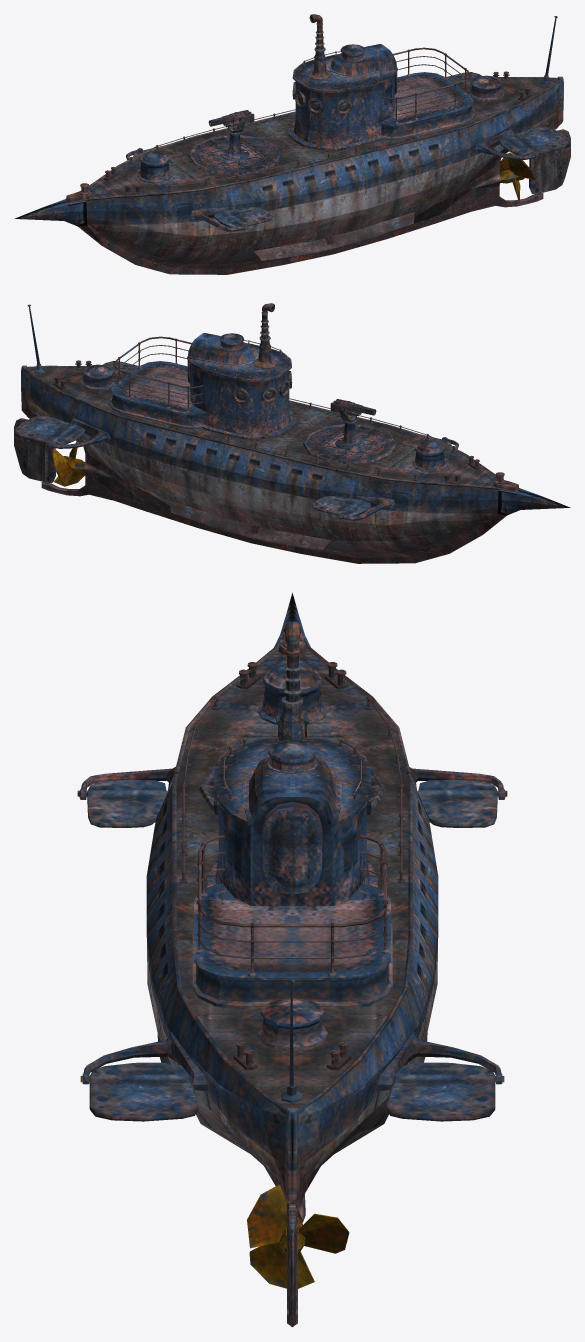
Rendered from submarina.obj.
3 renders of one model, top to bottom at view 1: azimuth 30°, elevation 25°; view 2: azimuth 150°, elevation 25°; view 3: azimuth 270°, elevation 25°, orthographic. The views are drawn at different scales.
Visible parts, largest first — view 1: Cylinder09; view 2: Cylinder09; view 3: Cylinder09.
Boxes of the visible parts, bbox=[...] form: Cylinder09: bbox=[14, 14, 570, 274]; Cylinder09: bbox=[14, 303, 570, 563]; Cylinder09: bbox=[77, 592, 507, 1327].
Size of the model in its own units: 18621 by 7802 by 6219.
Materials: 1 (1 with a texture image).
